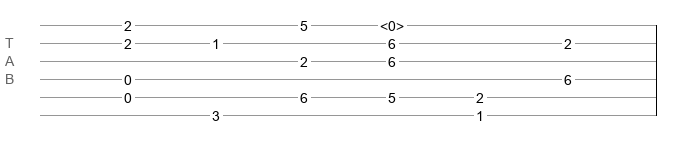0: (124, 72, 132, 82), (124, 90, 132, 100)
1: (212, 36, 220, 46), (476, 108, 484, 118)
2: (124, 18, 132, 28), (124, 36, 132, 46), (300, 54, 308, 64), (476, 90, 484, 100), (564, 36, 572, 46)
3: (212, 108, 220, 118)
5: (300, 18, 308, 28), (388, 90, 396, 100)
6: (300, 90, 308, 100), (388, 54, 396, 64), (388, 36, 396, 46), (564, 72, 572, 82)
harmonic: (380, 18, 404, 28)
